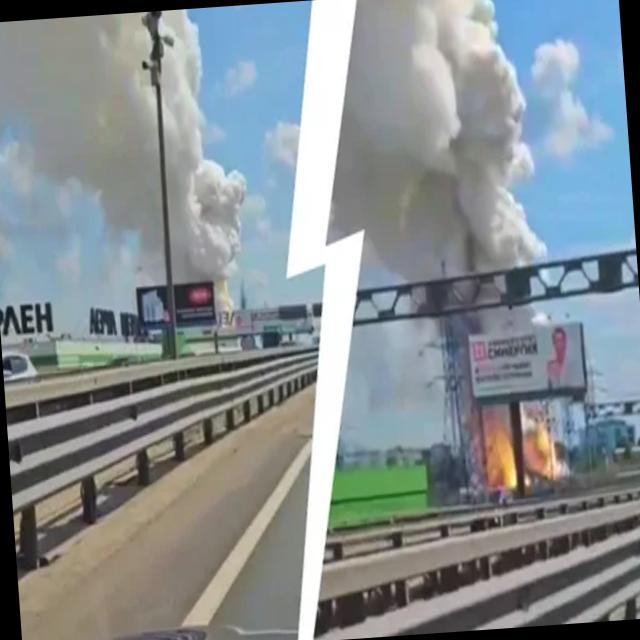Smoke: (0, 7, 256, 325), (338, 0, 562, 282)
